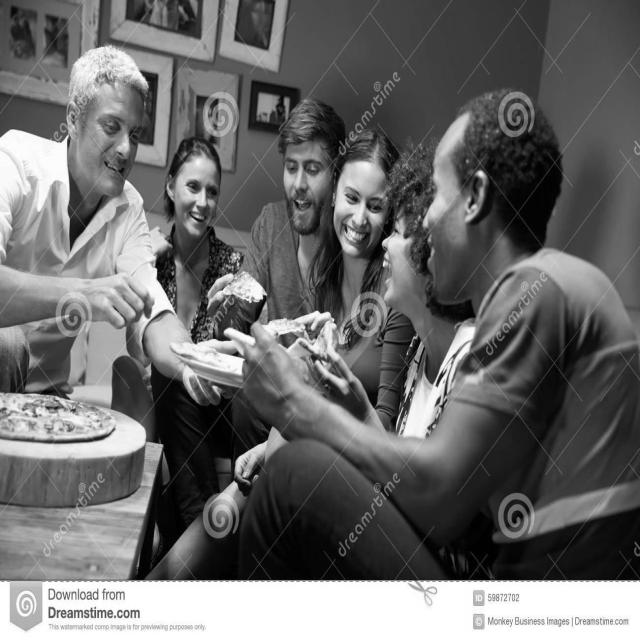person: (233, 92, 637, 579), (1, 38, 191, 446), (414, 88, 569, 579), (257, 102, 356, 376), (386, 154, 455, 489), (154, 115, 234, 371), (329, 116, 399, 382)
